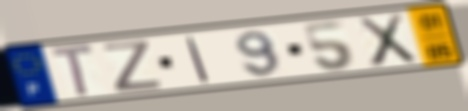5: (299, 18, 356, 72)
9: (233, 29, 283, 78)
I: (183, 35, 213, 84)
T: (48, 42, 98, 100)
X: (354, 11, 420, 69)
Z: (100, 38, 165, 94)
